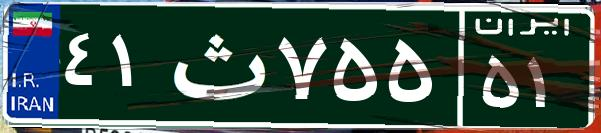1: (110, 28, 158, 105), (525, 38, 570, 115)
4: (57, 26, 110, 107)
5: (385, 28, 445, 110), (330, 28, 385, 110), (475, 38, 525, 113)
7: (273, 28, 330, 110)
ث: (158, 15, 273, 115)
